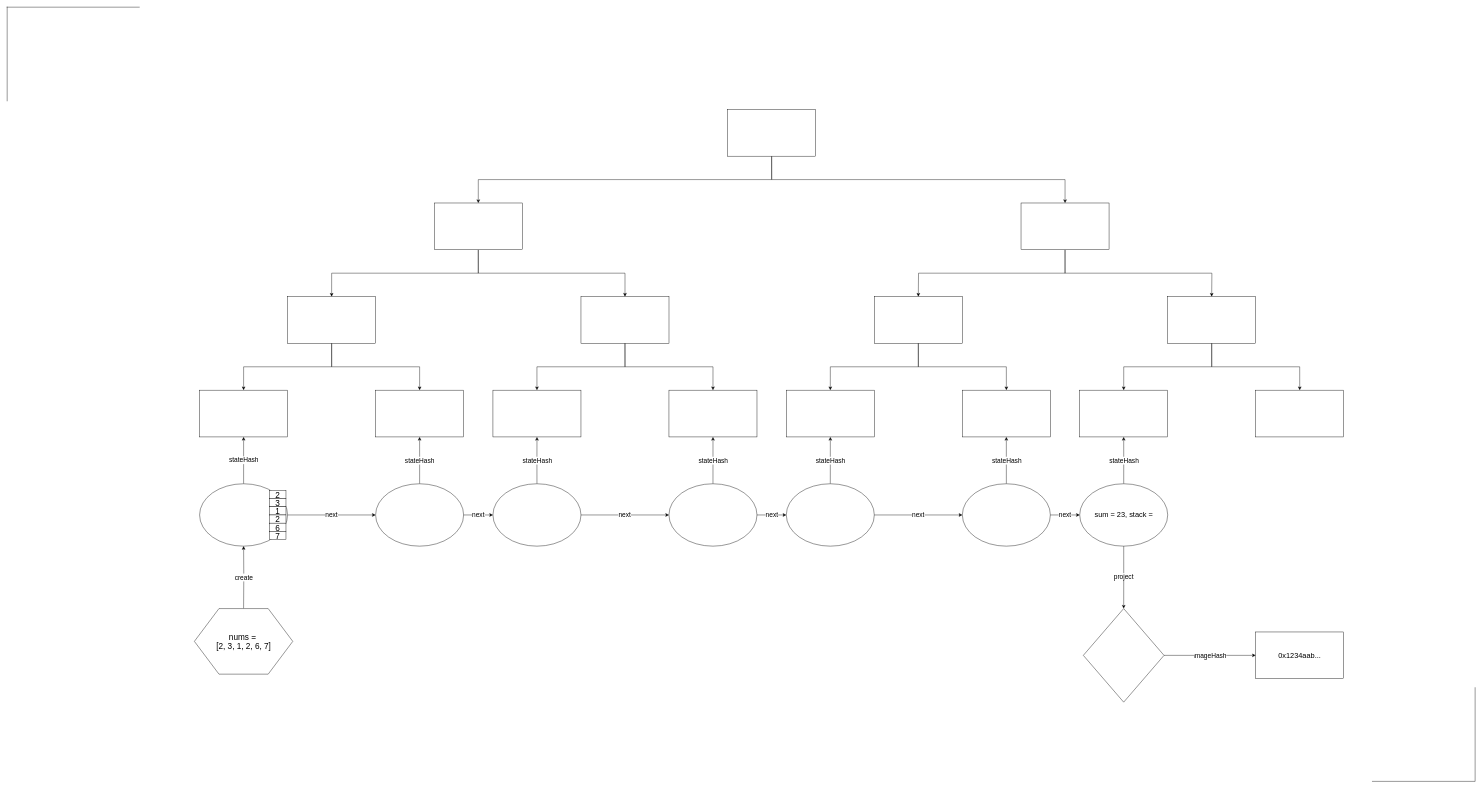
This 1483x789 diagram has some shape labels left out. Each missing label, with the box of its shape:
sum = 0, stack =: (199, 483, 288, 546)
sum = 23: (1083, 608, 1164, 702)
